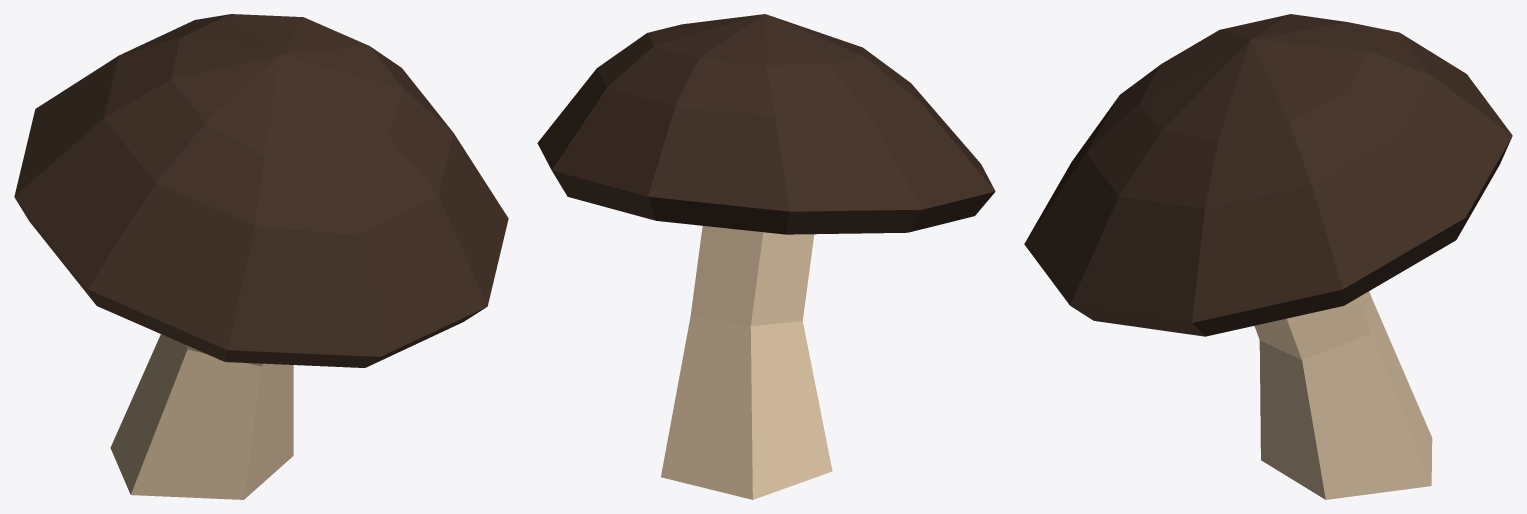
File: Mushroom 2_7.fbx
3 renders of one model, left to right at view 1: azimuth 30°, elevation 25°; view 2: azimuth 150°, elevation 25°; view 3: azimuth 270°, elevation 25°, orthographic. The views are drawn at different scales.
Parts seen in each view (by area): view 1: Mushroom 2_7; view 2: Mushroom 2_7; view 3: Mushroom 2_7.
Part boxes in pixels (left/top/right/bottom): Mushroom 2_7: left=14, top=14, right=508, bottom=499; Mushroom 2_7: left=537, top=14, right=995, bottom=499; Mushroom 2_7: left=1024, top=14, right=1512, bottom=499.
Bounding box in the file's own units: 0.3135 × 0.3129 × 0.3177.
